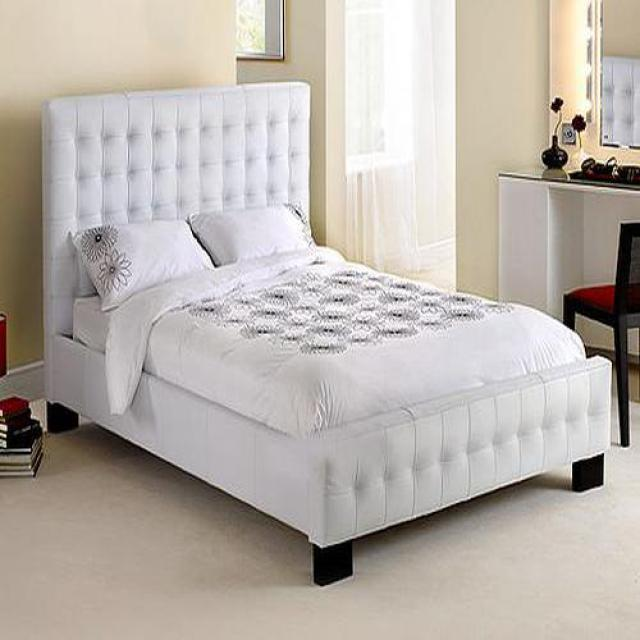bed: (42, 82, 617, 589)
